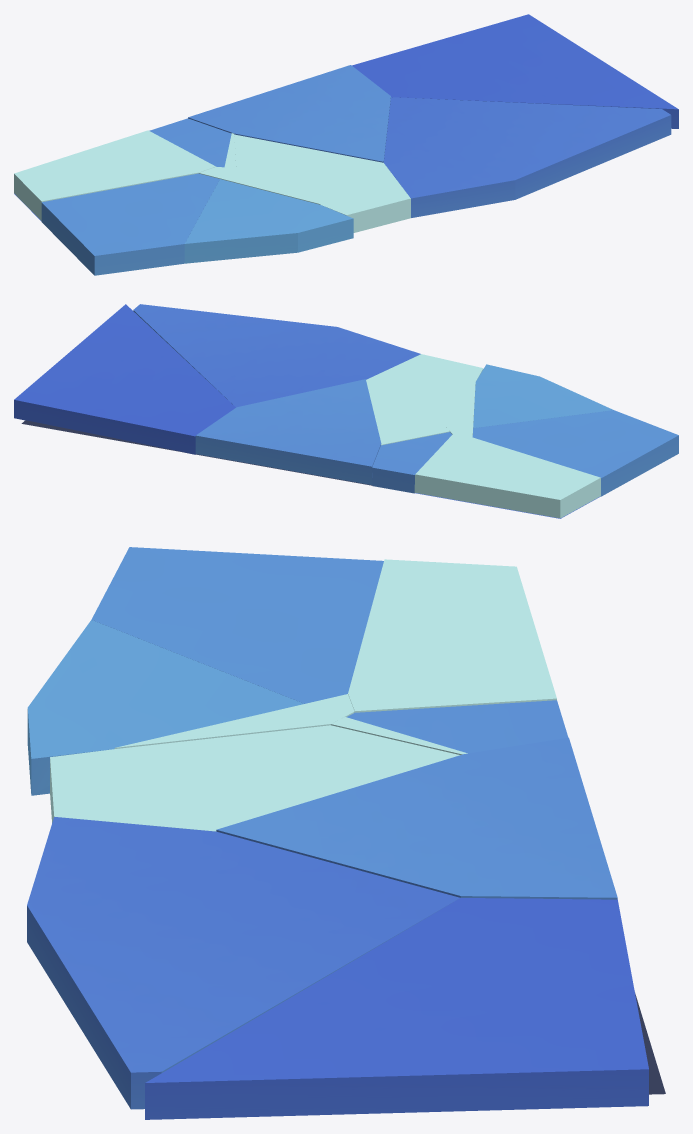
The model's file is Tundra_ice.fbx.
3 views of the same model, one above another, from view 1: azimuth 30°, elevation 25°; view 2: azimuth 150°, elevation 25°; view 3: azimuth 270°, elevation 25° (orthographic). The views are drawn at different scales.
Parts seen in each view (by area): view 1: Cube.002_cell.003, Cube.002_cell.005, Cube.002_cell.004_cell.001, Cube.002_cell.006, Cube.002_cell.004_cell.002, Cube.002_cell.001, Cube.002_cell, Cube.002_cell.007_cell.002, Cube.002_cell.002; view 2: Cube.002_cell.005, Cube.002_cell.003, Cube.002_cell.006, Cube.002_cell, Cube.002_cell.004_cell.001, Cube.002_cell.001, Cube.002_cell.004_cell.002, Cube.002_cell.007_cell.002, Cube.002_cell.002, Cube.003_cell.002; view 3: Cube.002_cell.005, Cube.002_cell.003, Cube.002_cell.006, Cube.002_cell.004_cell.001, Cube.002_cell.001, Cube.002_cell, Cube.002_cell.004_cell.002, Cube.002_cell.007_cell.002, Cube.002_cell.002, Cube.002_cell.007_cell.
Boxes of the visible parts, x1,y1,x2,y2 form: Cube.002_cell.003: (383, 97, 671, 217); Cube.002_cell.005: (352, 14, 678, 128); Cube.002_cell.004_cell.001: (41, 173, 219, 275); Cube.002_cell.006: (188, 65, 390, 162); Cube.002_cell.004_cell.002: (184, 179, 353, 263); Cube.002_cell.001: (234, 134, 410, 232); Cube.002_cell: (14, 130, 215, 220); Cube.002_cell.007_cell.002: (149, 118, 231, 167); Cube.002_cell.002: (198, 166, 320, 204); Cube.002_cell.005: (14, 304, 235, 454); Cube.002_cell.003: (133, 304, 420, 407); Cube.002_cell.006: (195, 379, 381, 484); Cube.002_cell: (414, 434, 600, 518); Cube.002_cell.004_cell.001: (472, 410, 678, 496); Cube.002_cell.001: (366, 354, 483, 443); Cube.002_cell.004_cell.002: (473, 364, 613, 428); Cube.002_cell.007_cell.002: (372, 432, 452, 493); Cube.002_cell.002: (446, 382, 475, 437); Cube.003_cell.002: (21, 420, 312, 475); Cube.002_cell.005: (145, 898, 648, 1119); Cube.002_cell.003: (27, 817, 459, 1109); Cube.002_cell.006: (216, 737, 617, 899); Cube.002_cell.004_cell.001: (91, 547, 383, 703); Cube.002_cell.001: (50, 725, 459, 831); Cube.002_cell: (348, 559, 556, 712); Cube.002_cell.004_cell.002: (27, 620, 303, 795); Cube.002_cell.007_cell.002: (346, 700, 568, 753); Cube.002_cell.002: (114, 694, 354, 748); Cube.002_cell.007_cell: (331, 717, 467, 754).
Bounding box in the file's own units: 2371 × 79.74 × 1194.
